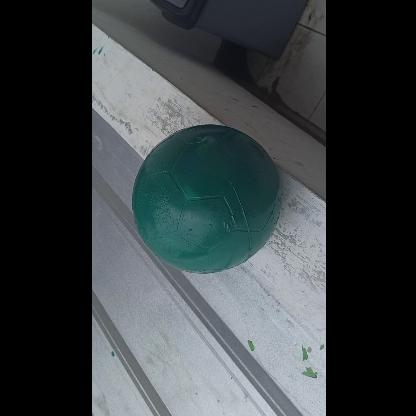green_ball: (131, 126, 280, 276)
